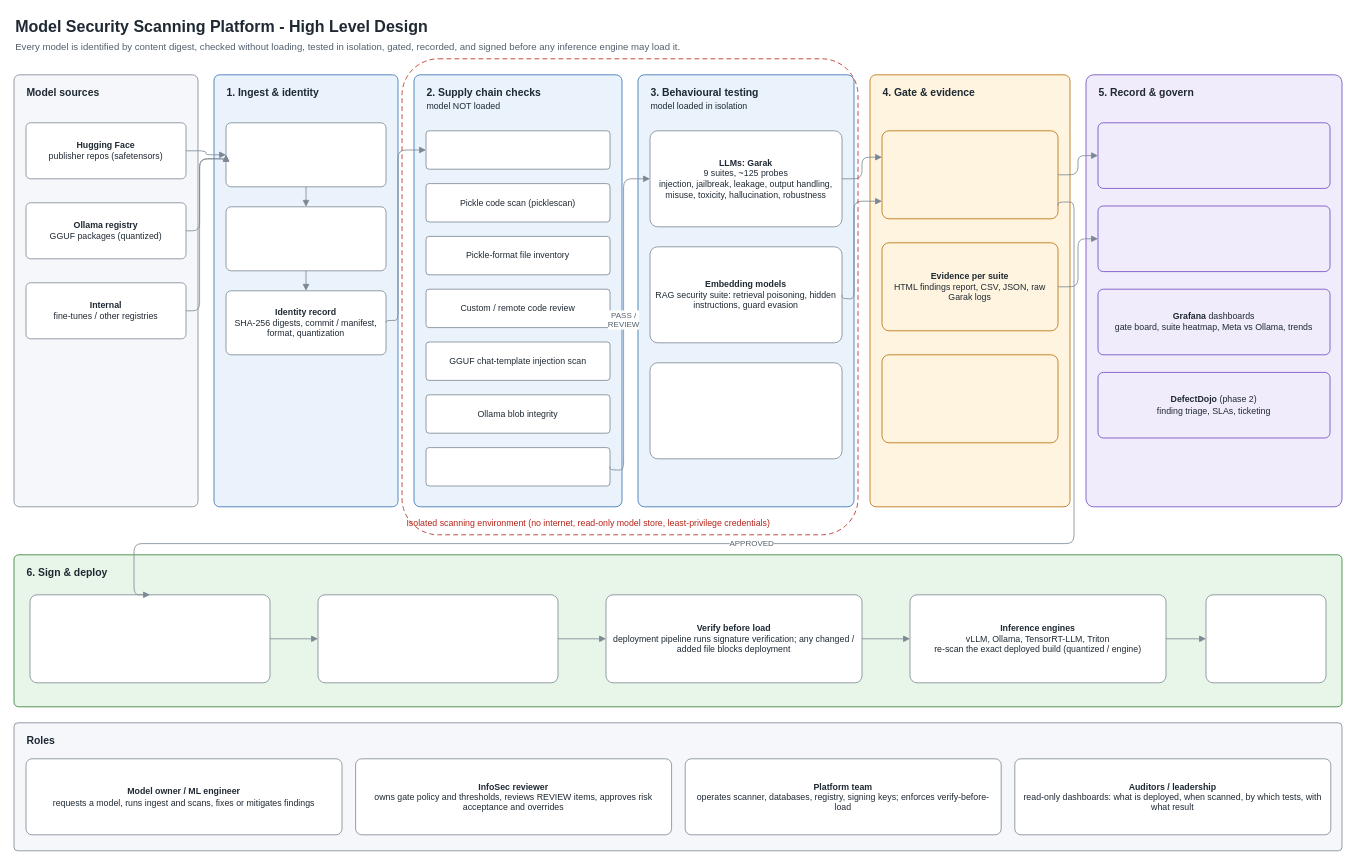
Some shapes in this 1356 by 865 pixel diagram are drawn without their labels. Each missing label, with the centre of its shape:
"Approved model store immutable, versioned; signature + public key distributed" belongs at (x=437, y=638).
"Download / pull only step with internet egress" belongs at (x=305, y=154).
"Gated licence acceptance (e.g. Meta Llama)" belongs at (x=305, y=238).
"Hash verification vs publisher" belongs at (x=517, y=149).
"Human review InfoSec reviews REVIEW items & risk acceptance (reason recorded)" belongs at (x=969, y=398).
"Licence & use policy capture" belongs at (x=517, y=466).
"MLflow model registry experiment per family, version per digest, aliases" belongs at (x=1213, y=238).
"OpenSSF model-signing sign only APPROVED (or reviewed) versions" belongs at (x=149, y=638).
"PostgreSQL results DB model versions, checks, runs, findings, signatures" belongs at (x=1213, y=155).
"Release gate APPROVED / NEEDS REVIEW / REJECTED / INCOMPLETE" belongs at (x=969, y=174).
"Runtime guardrails + monitoring periodic re-scan" belongs at (x=1265, y=638).
"Runtimes under test HF weights via transformers Ollama GGUF via chat API" belongs at (x=745, y=410).
